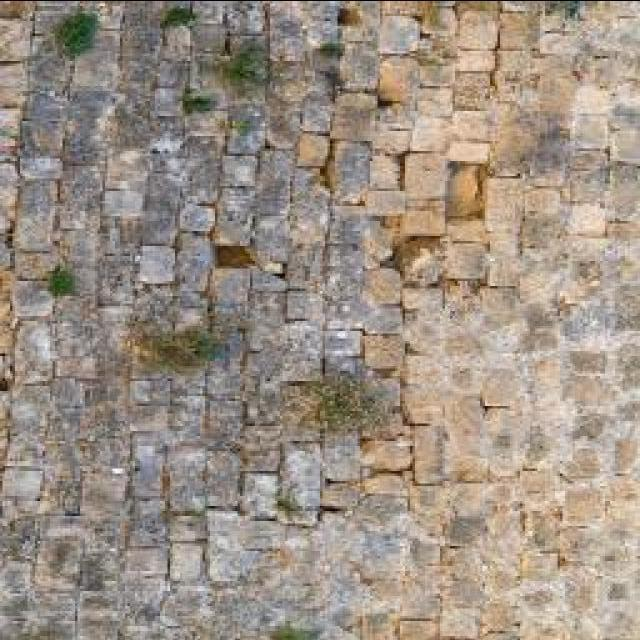crack: (0, 1, 638, 638)
vegetation: (282, 367, 396, 438), (52, 9, 99, 59)
